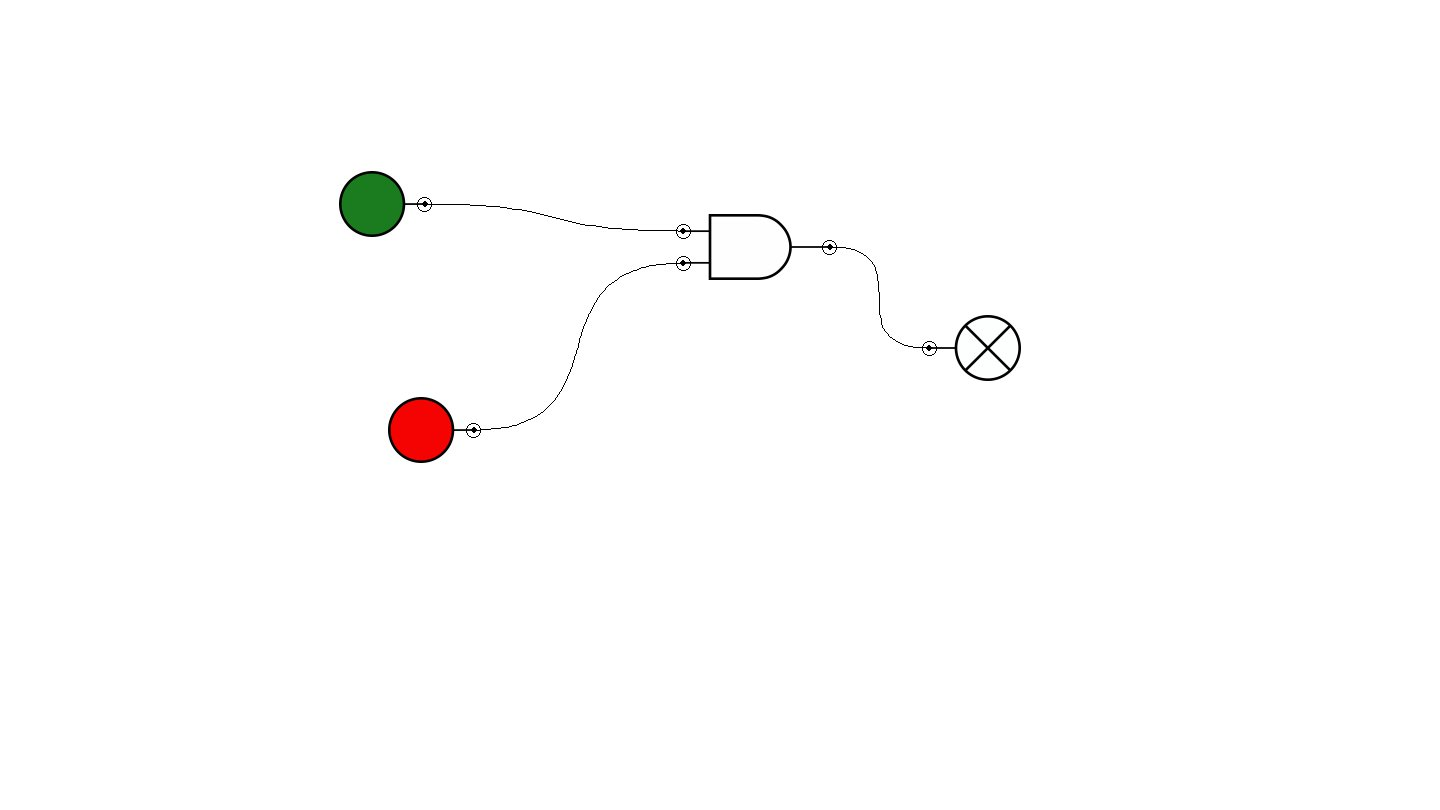and: (676, 214, 837, 280)
bulb: (922, 315, 1021, 381)
switch_False: (388, 397, 481, 463)
switch_True: (339, 171, 432, 237)
